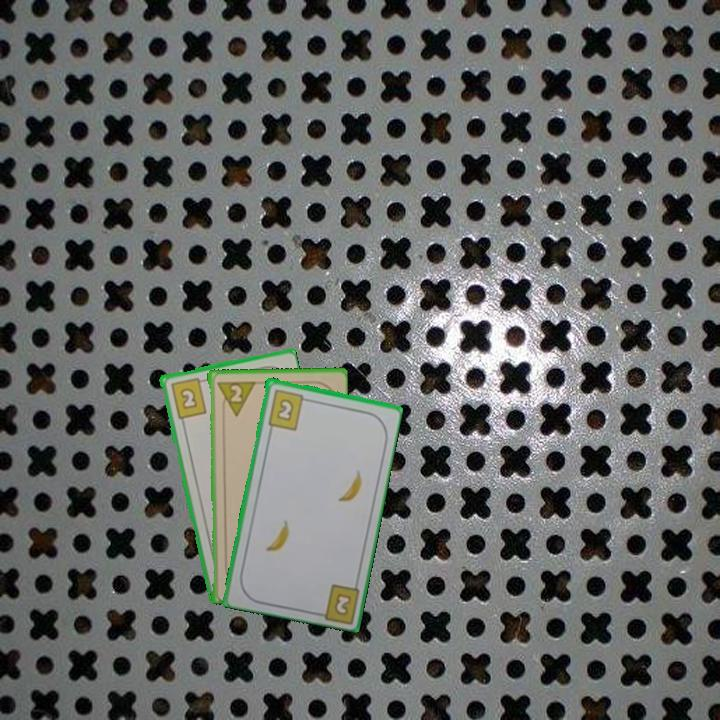2b: (264, 386, 312, 432), (167, 374, 209, 421), (330, 590, 354, 618)
2p: (213, 377, 256, 418)
